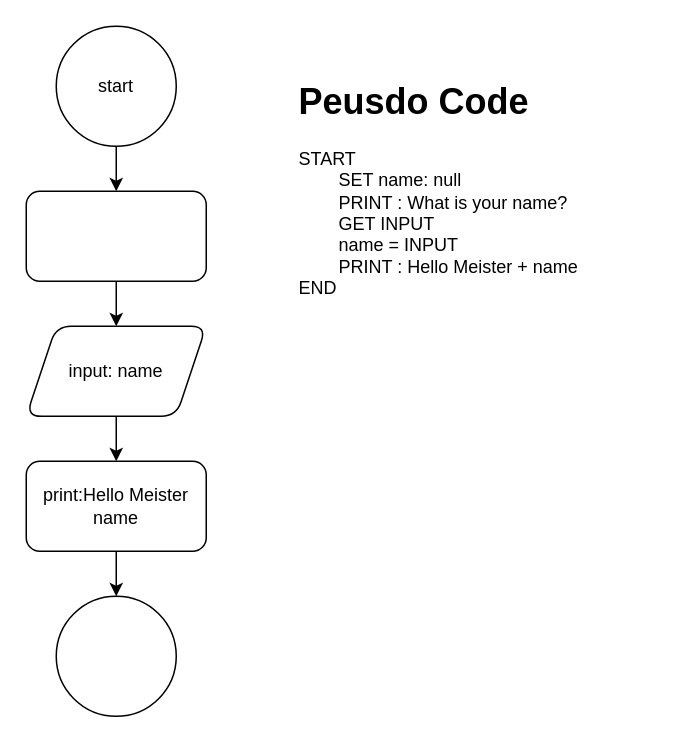
The diagram is 698 pixels wide and 743 high, and some of its shapes have lost their labels. The shapes that lost their labels are listed below. From the top down, each one's box as (x1, y1, x2, y2) in pixels, then its label:
(25, 190, 206, 281): Print: Whwat is your name?
(55, 595, 176, 716): end
